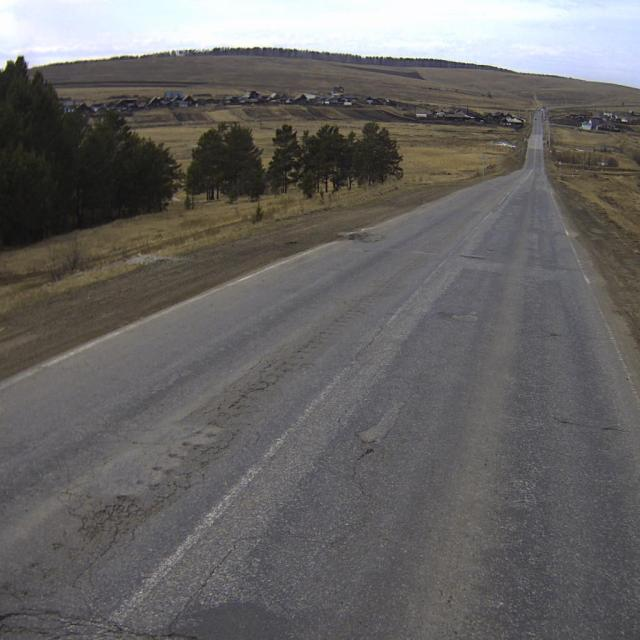road: (0, 111, 640, 639)
